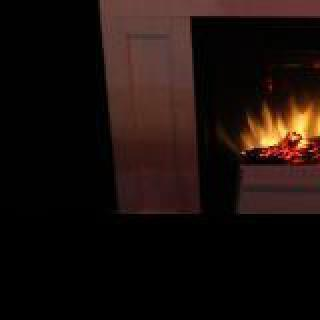fire: (220, 80, 320, 164)
